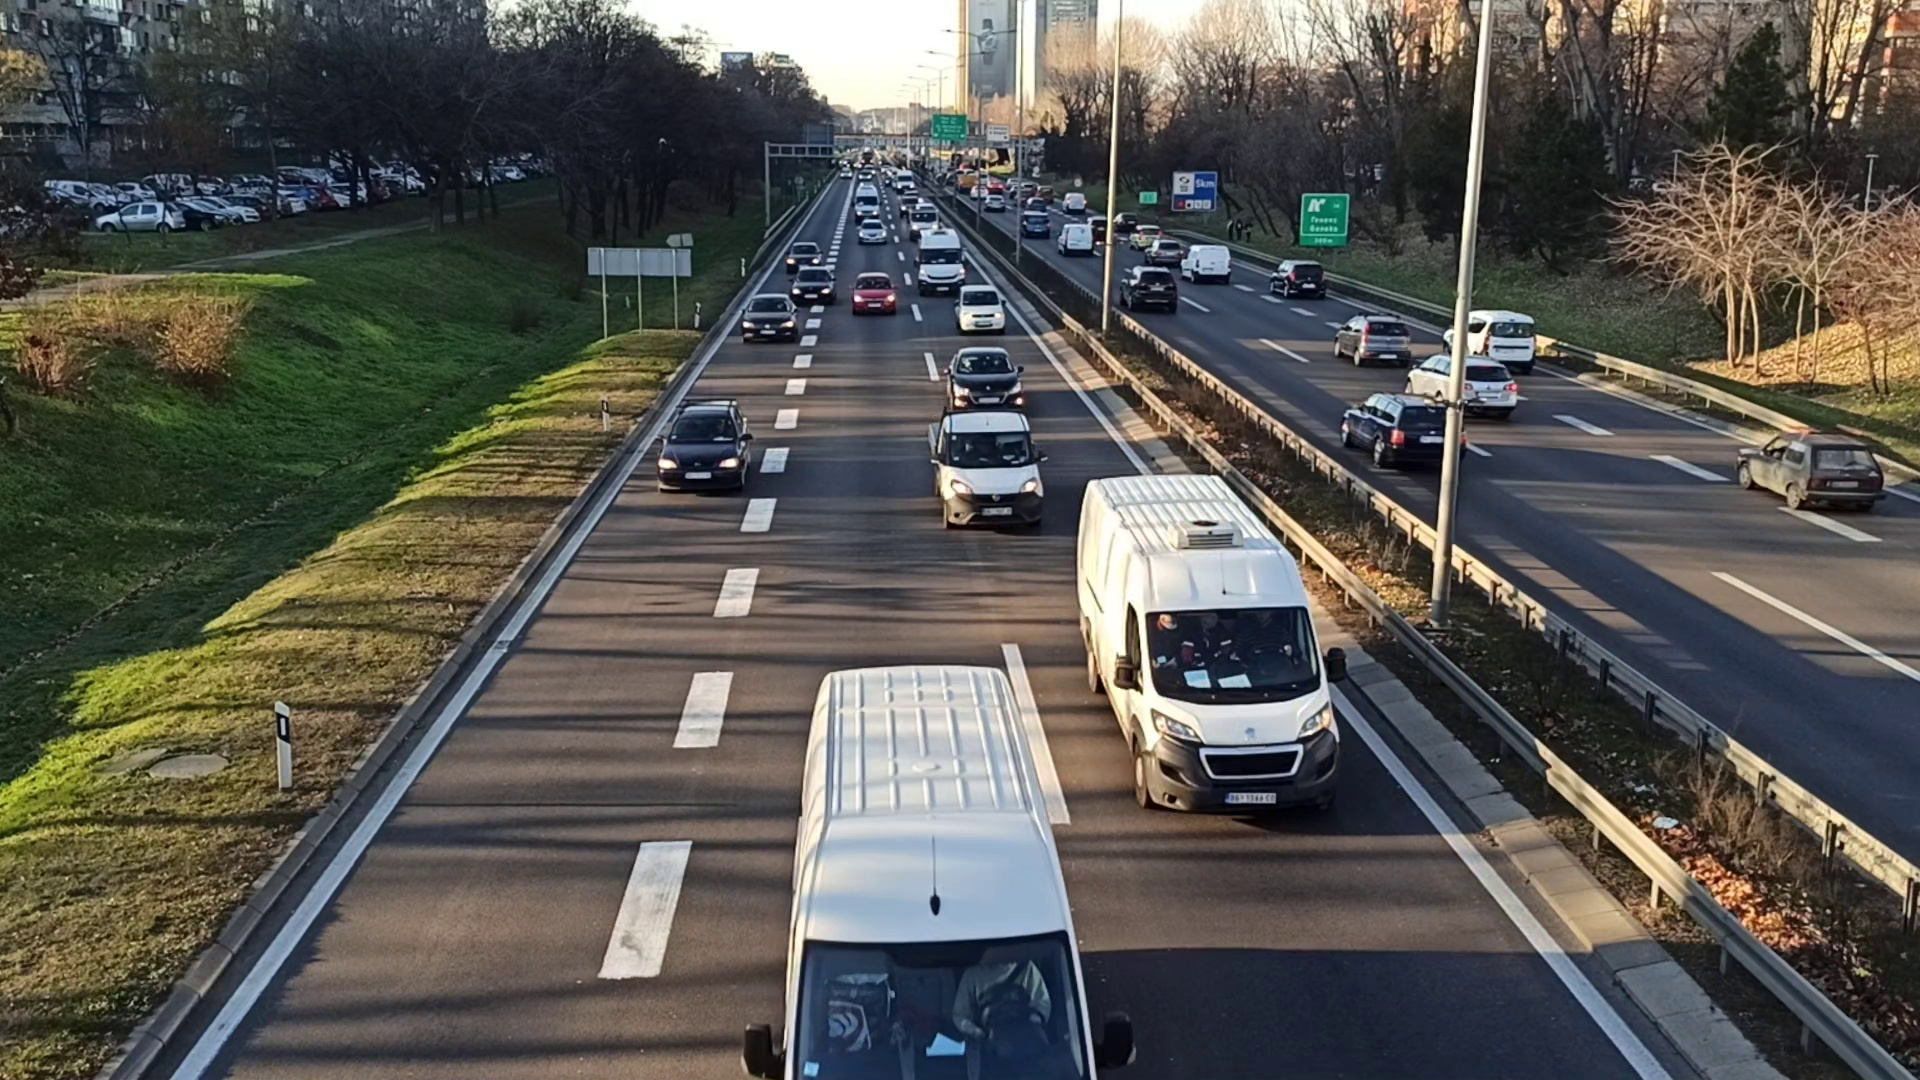car: (931, 414, 1046, 534), (1738, 433, 1884, 518), (655, 394, 750, 495), (1338, 392, 1458, 467), (1408, 353, 1515, 411), (944, 347, 1025, 413), (1443, 310, 1538, 364), (1335, 314, 1414, 367), (953, 280, 1007, 334), (738, 294, 799, 342), (1120, 265, 1176, 311), (1270, 258, 1325, 298), (1178, 244, 1230, 284), (853, 270, 895, 313), (791, 270, 832, 303), (785, 239, 820, 270), (858, 219, 887, 244)
van: (756, 659, 1093, 1073), (1071, 472, 1344, 816), (915, 229, 965, 294)
